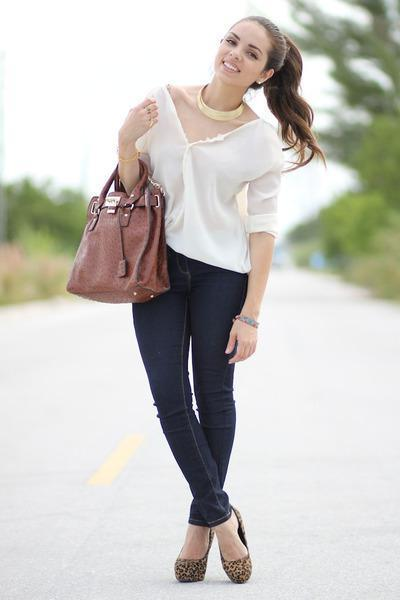short sleeve shirt: (114, 79, 287, 282)
trousers: (123, 248, 256, 530)
